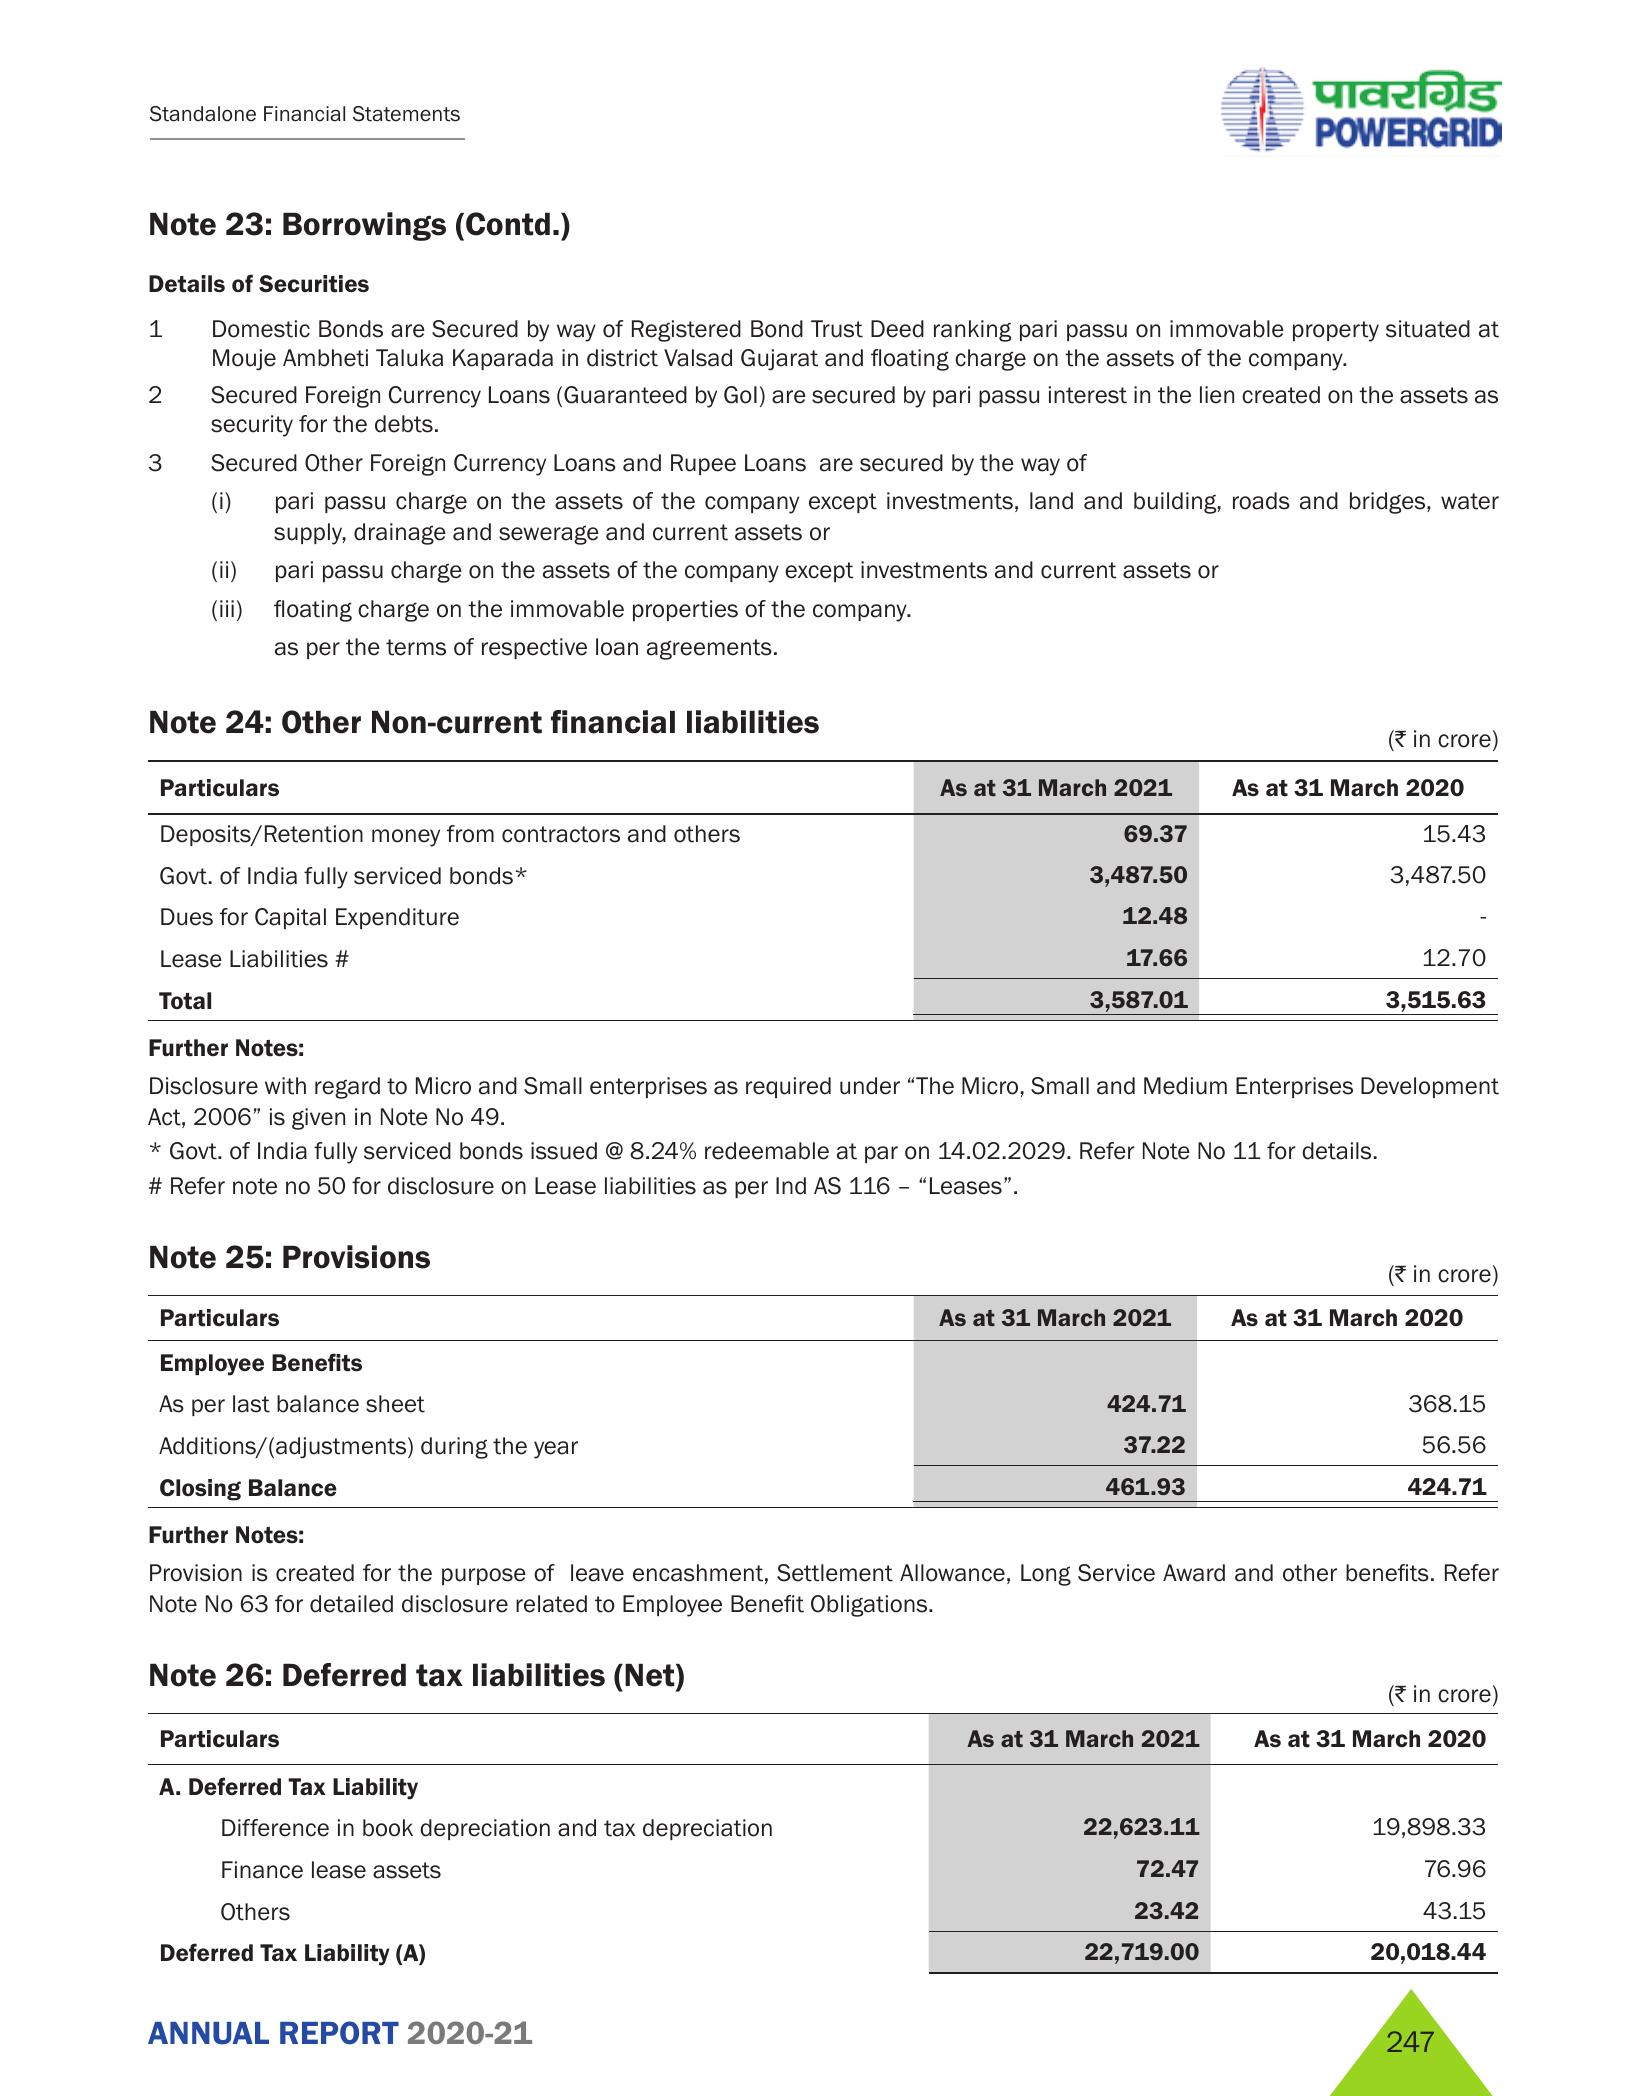Footer: (0, 1974, 1650, 2096)
Header: (0, 0, 1650, 163)
Table: (99, 755, 1533, 1021), (117, 1712, 1492, 1985), (102, 1295, 1521, 1504)
